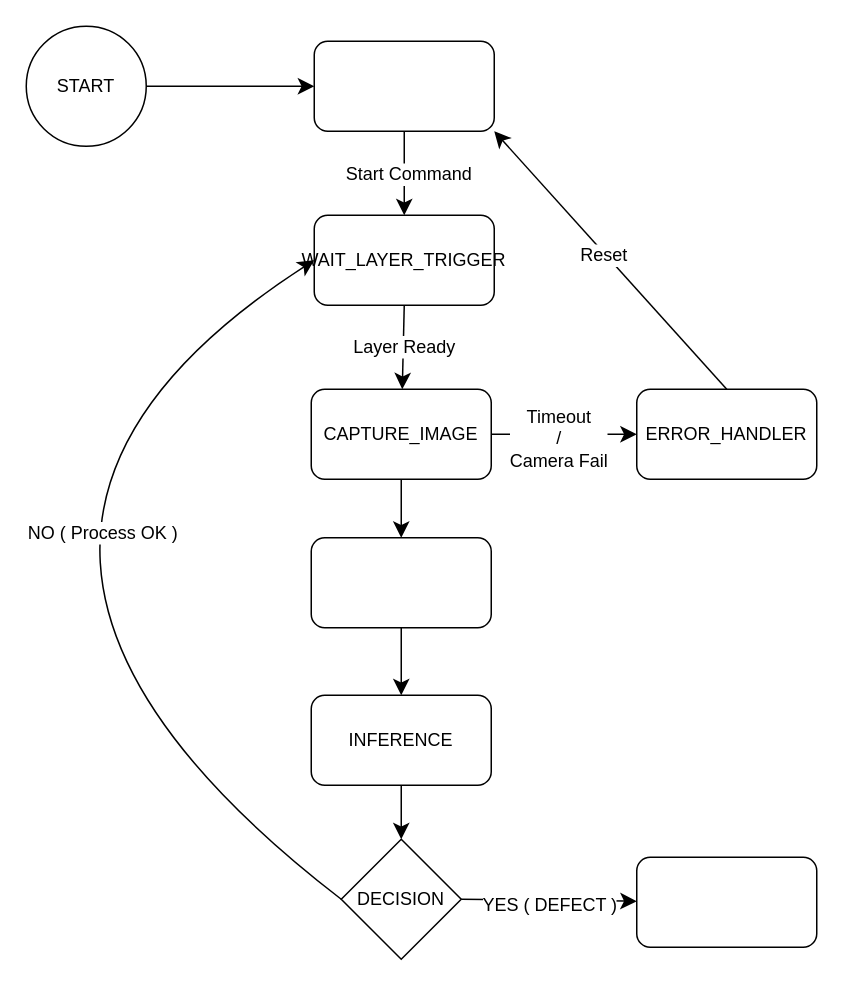
This 843x986 diagram has some shape labels left out. The shapes that lost their labels are listed below. From the top down, each one's centre as x and y in pixels, then its label:
At (403,85): "IDLE".
At (400,582): "PREPROCESS".
At (726,901): "STOP".
